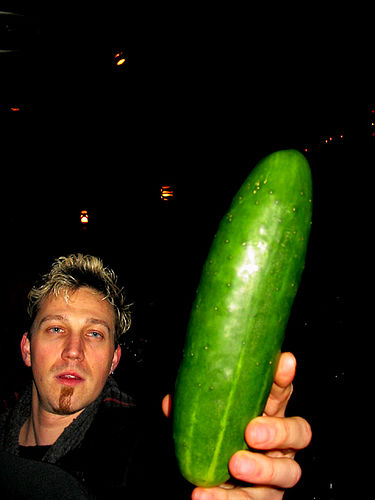cucumber: (171, 150, 316, 486)
